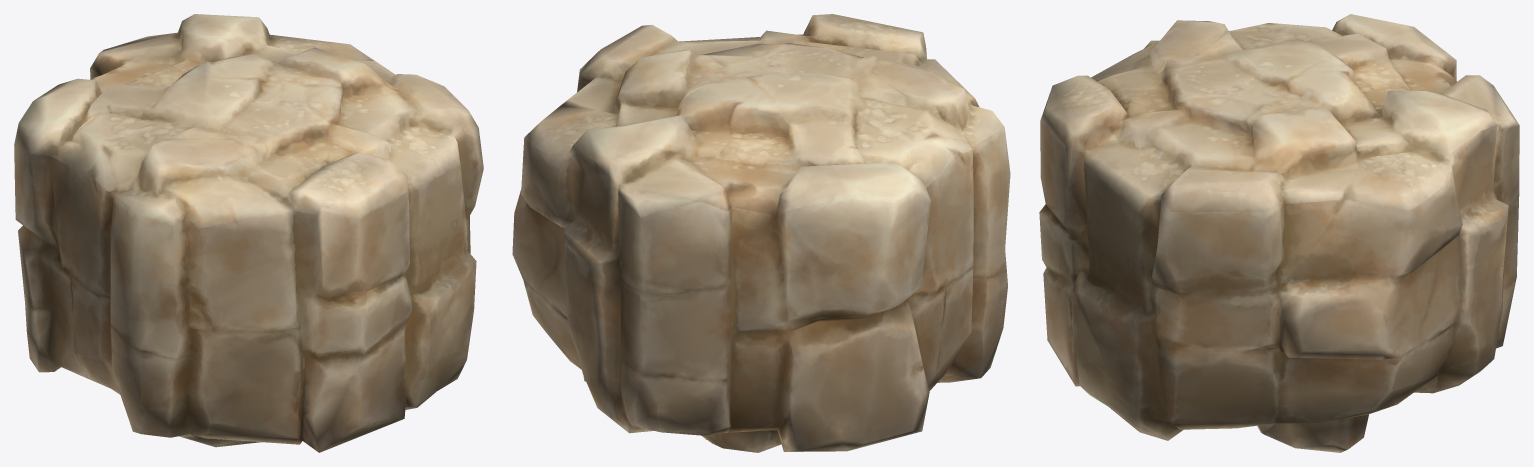
File: mesh_HexTerrain_Mid.fbx
3 views of the same model, side by side, from view 1: azimuth 30°, elevation 25°; view 2: azimuth 150°, elevation 25°; view 3: azimuth 270°, elevation 25° (orthographic). The views are drawn at different scales.
Visible parts, largest first — view 1: HexTerrain_Mid_Lowpoly_LOD0; view 2: HexTerrain_Mid_Lowpoly_LOD0; view 3: HexTerrain_Mid_Lowpoly_LOD0.
Boxes of the visible parts, bbox=[...] form: HexTerrain_Mid_Lowpoly_LOD0: bbox=[14, 14, 483, 452]; HexTerrain_Mid_Lowpoly_LOD0: bbox=[512, 14, 1010, 452]; HexTerrain_Mid_Lowpoly_LOD0: bbox=[1039, 14, 1519, 452].
Size of what is drawn, in the model's own units: 10.41 by 8.26 by 11.05.
